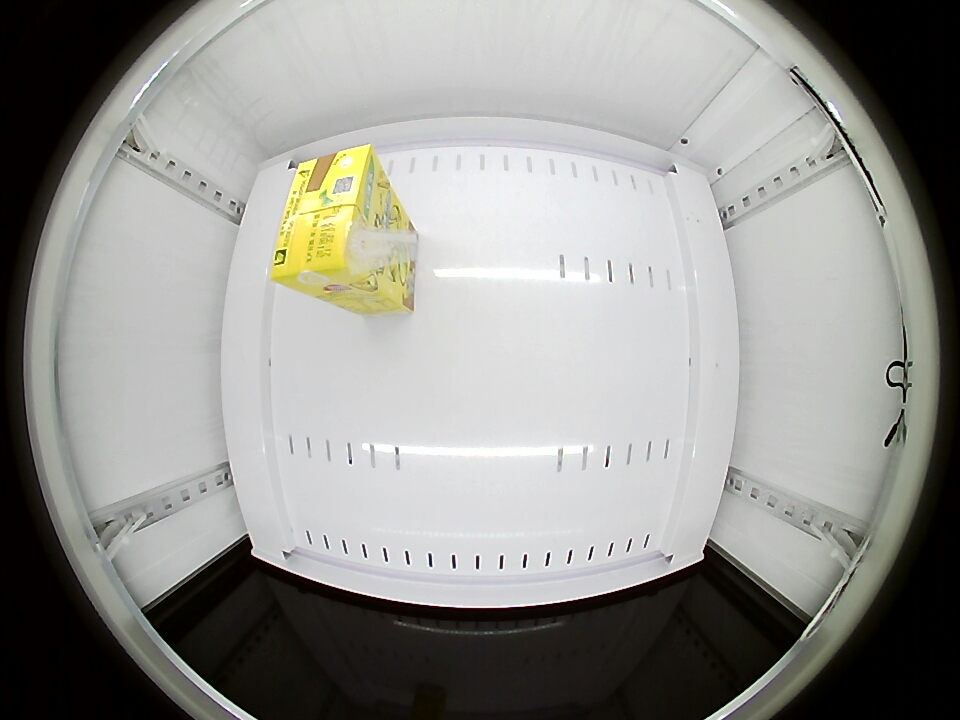weitaningmeng: (271, 143, 392, 294)
